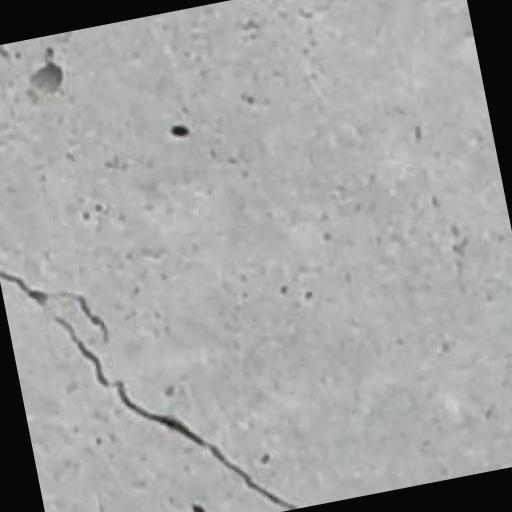spalling: (3, 255, 311, 512)
